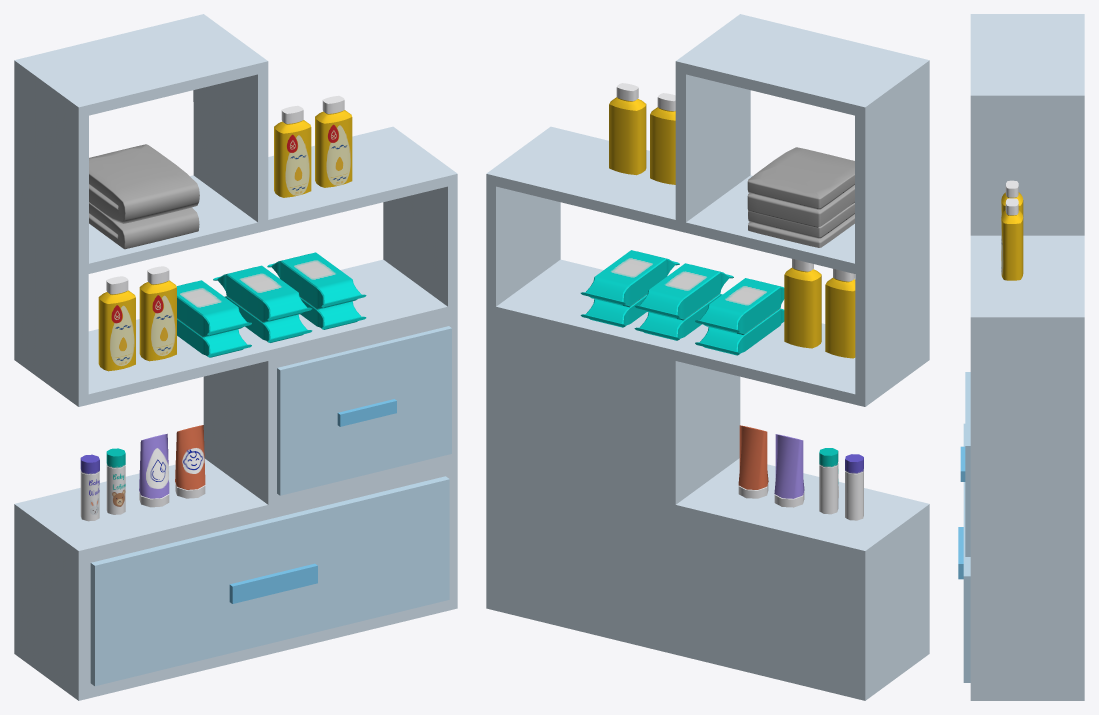
Rendered from Shelf_V2.fbx.
3 views of the same model, side by side, from view 1: azimuth 30°, elevation 25°; view 2: azimuth 150°, elevation 25°; view 3: azimuth 270°, elevation 25° (orthographic). The views are drawn at different scales.
Visible parts, largest first — view 1: Shelf_02, polySurface85, RE_BeautyProducts_04, polySurface81, polySurface83, polySurface84, polySurface82; view 2: Shelf_02, polySurface85, RE_BeautyProducts_04, polySurface81, polySurface84, polySurface82, polySurface83; view 3: Shelf_02, polySurface84, polySurface83.
Boxes of the visible parts, left/top/right/bottom form: Shelf_02: left=14, top=14, right=457, bottom=700; polySurface85: left=98, top=252, right=366, bottom=371; RE_BeautyProducts_04: left=80, top=425, right=205, bottom=521; polySurface81: left=89, top=144, right=199, bottom=223; polySurface83: left=274, top=105, right=311, bottom=197; polySurface84: left=315, top=95, right=352, bottom=187; polySurface82: left=89, top=202, right=199, bottom=249; Shelf_02: left=486, top=14, right=929, bottom=700; polySurface85: left=580, top=250, right=855, bottom=358; RE_BeautyProducts_04: left=738, top=425, right=863, bottom=520; polySurface81: left=747, top=147, right=854, bottom=227; polySurface84: left=609, top=83, right=646, bottom=175; polySurface82: left=748, top=202, right=854, bottom=247; polySurface83: left=650, top=93, right=675, bottom=184; Shelf_02: left=958, top=14, right=1084, bottom=700; polySurface84: left=1001, top=198, right=1023, bottom=280; polySurface83: left=1001, top=180, right=1023, bottom=216.
Size of the model in its own units: 103 by 155 by 33.78.
